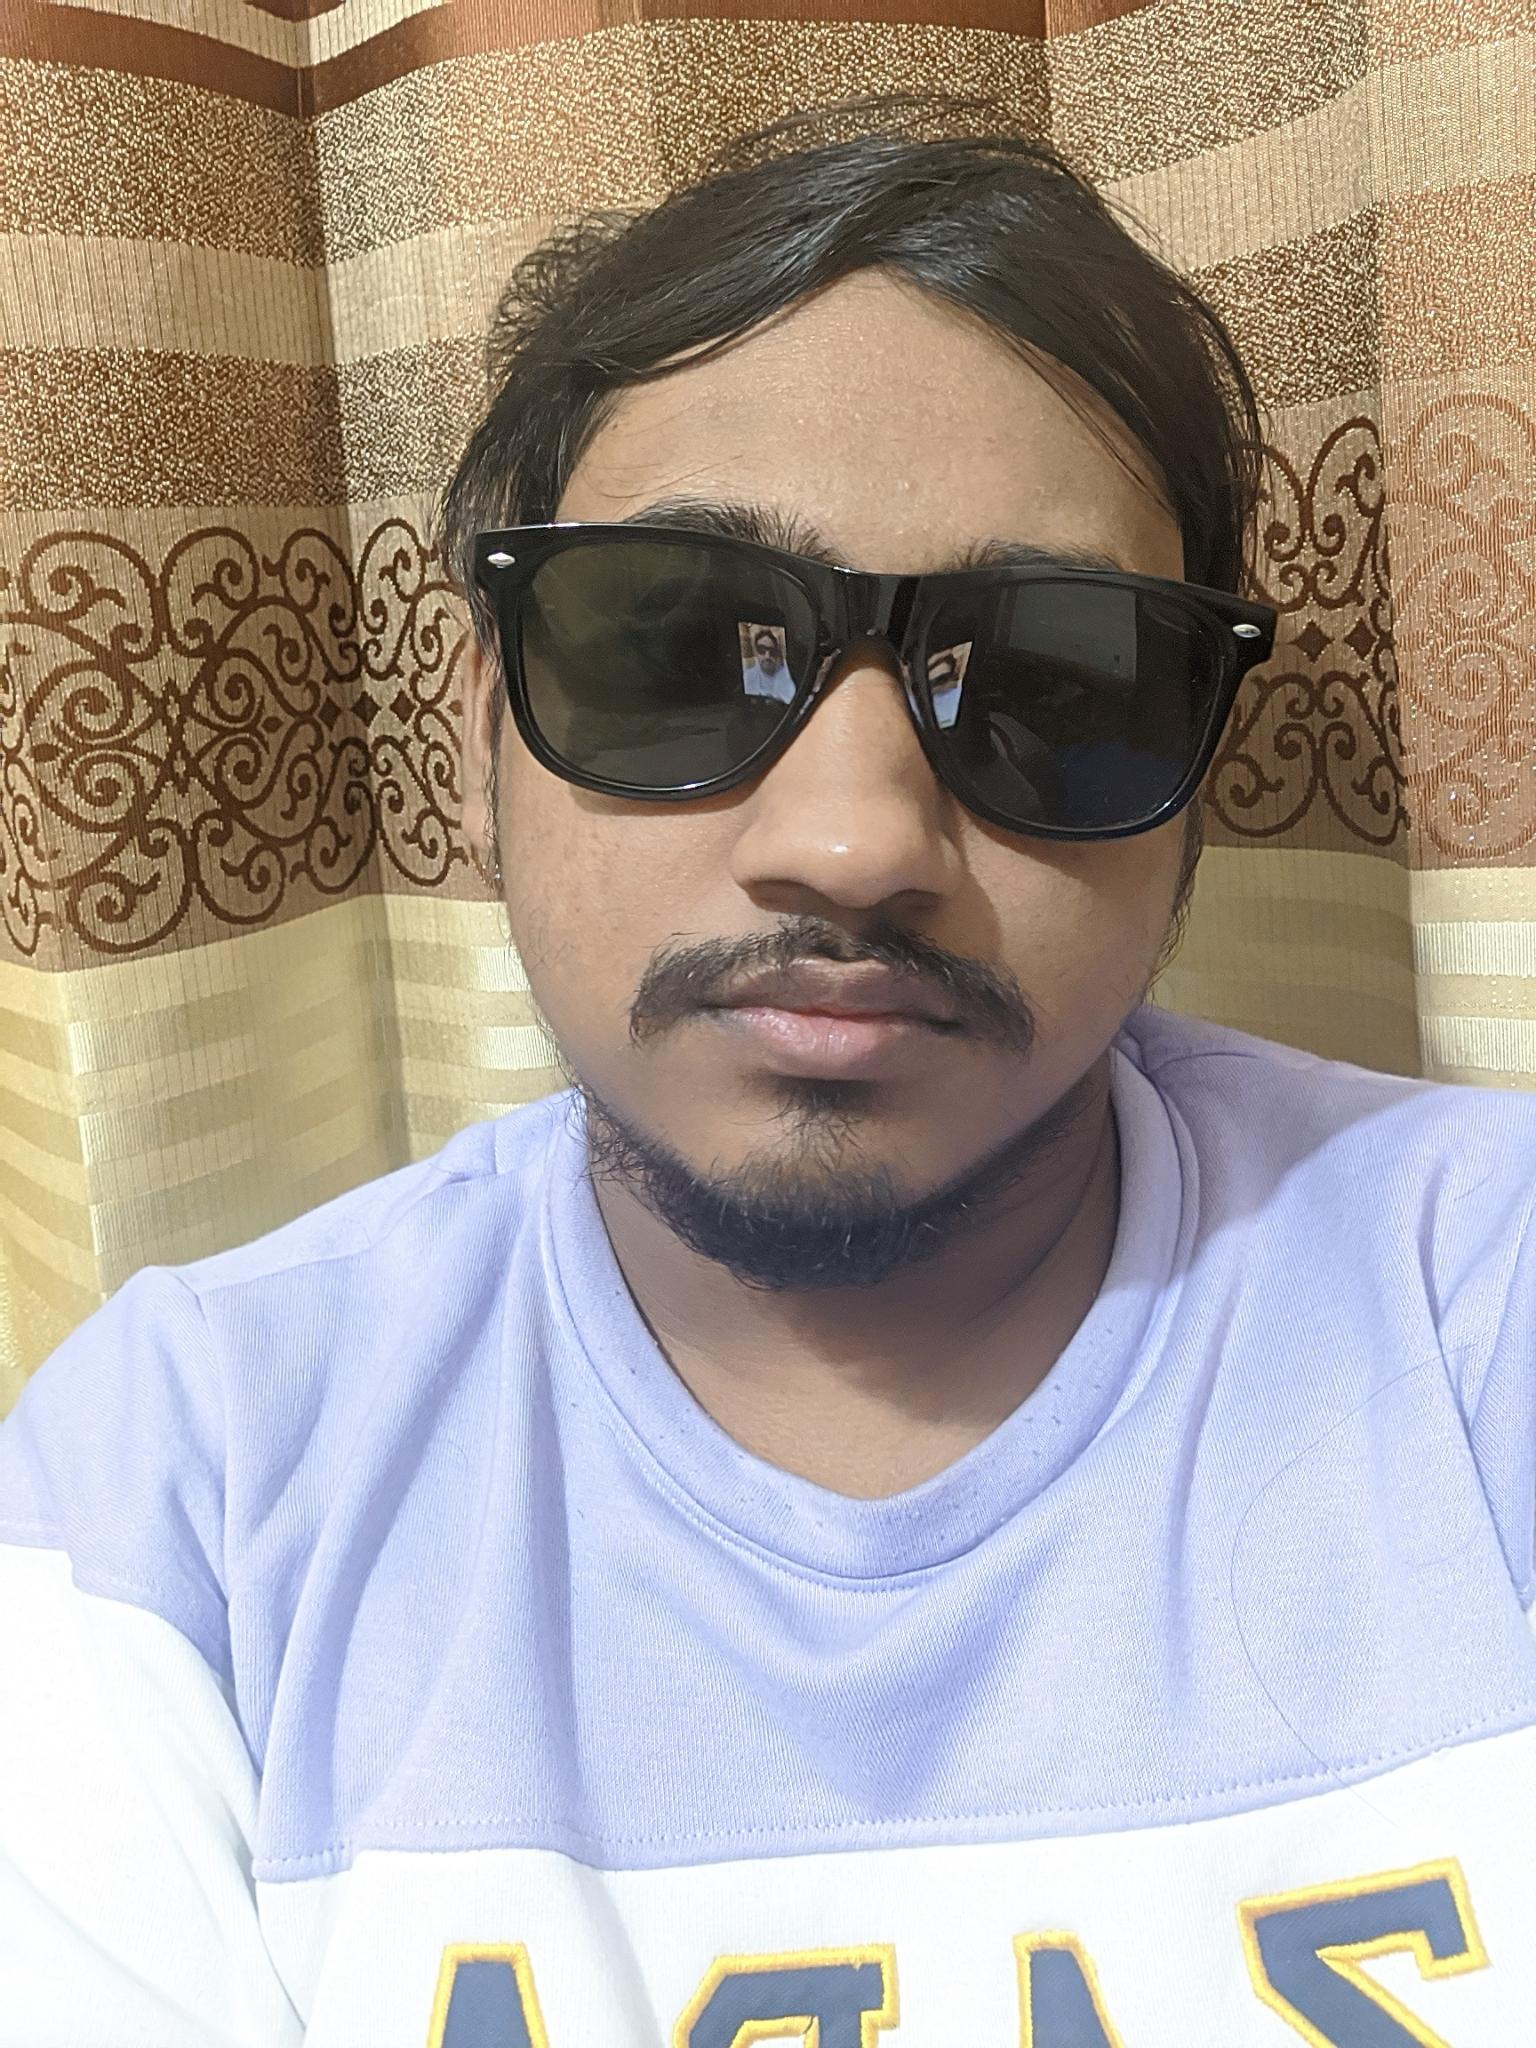Neutral: (481, 397, 1262, 1261)
